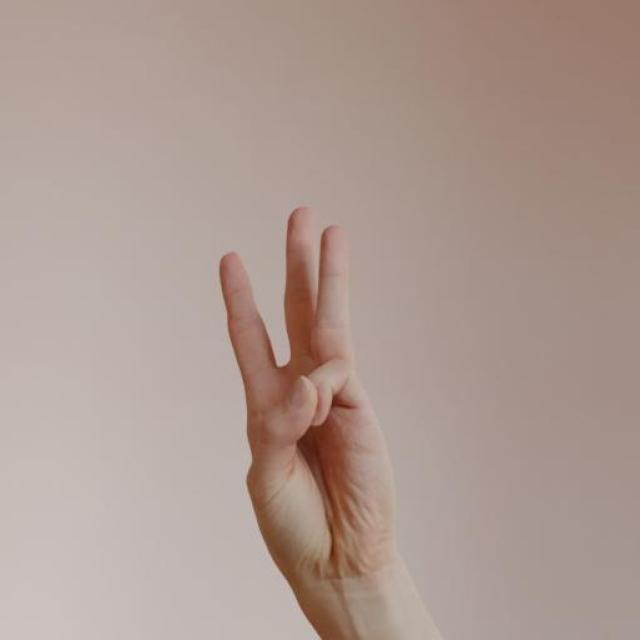W: (213, 196, 410, 598)
